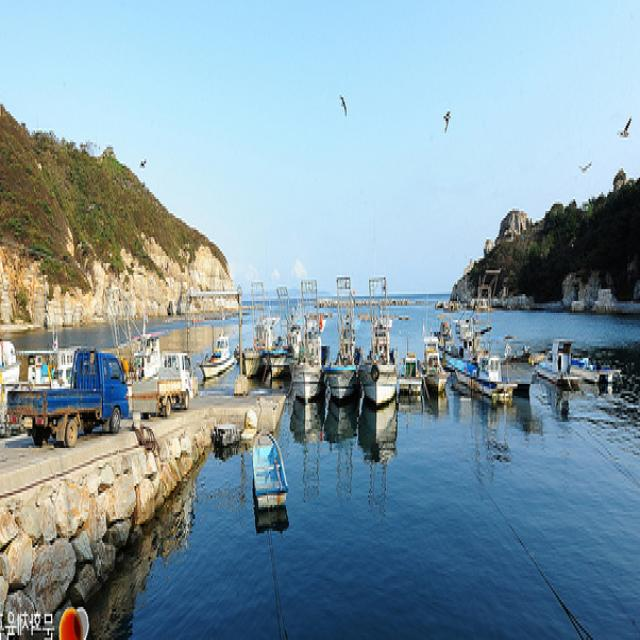fishing boat: (366, 278, 408, 406), (292, 274, 333, 404), (331, 267, 364, 404), (236, 289, 278, 380), (265, 286, 301, 385)
